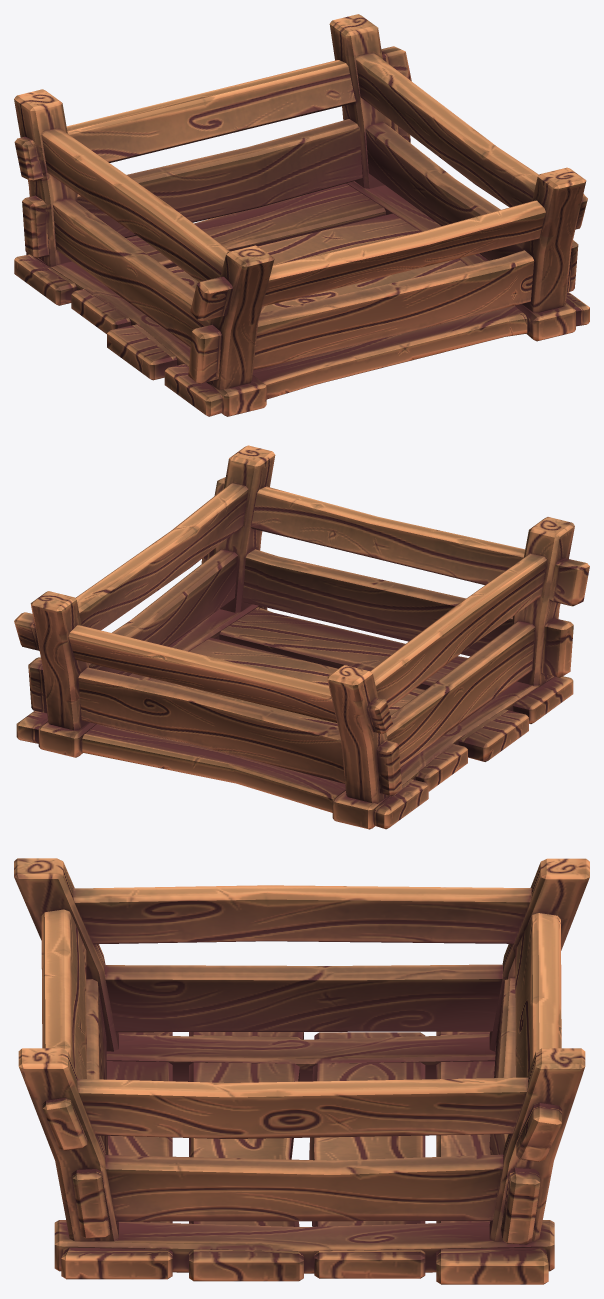
The model's file is kasa_sogan.fbx.
The picture shows the model from 3 angles, top to bottom: view 1: azimuth 30°, elevation 25°; view 2: azimuth 150°, elevation 25°; view 3: azimuth 270°, elevation 25°; orthographic projection. The views are drawn at different scales.
Parts seen in each view (by area): view 1: kasa_sogan; view 2: kasa_sogan; view 3: kasa_sogan.
Part boxes in pixels (bbox=[...]): kasa_sogan: bbox=[14, 14, 589, 416]; kasa_sogan: bbox=[14, 445, 589, 829]; kasa_sogan: bbox=[14, 858, 589, 1284].
Size of the model in its own units: 77.69 by 30.52 by 77.67.
